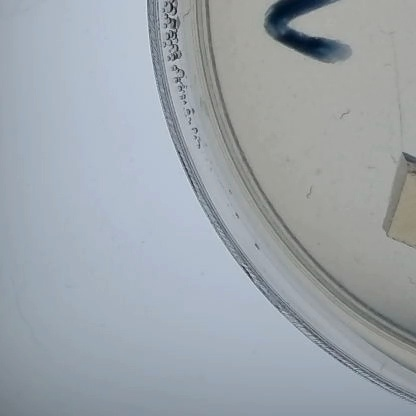worm: (298, 168, 332, 198), (335, 104, 361, 127), (382, 24, 405, 42), (363, 156, 383, 173), (402, 272, 416, 287), (387, 150, 395, 164)
